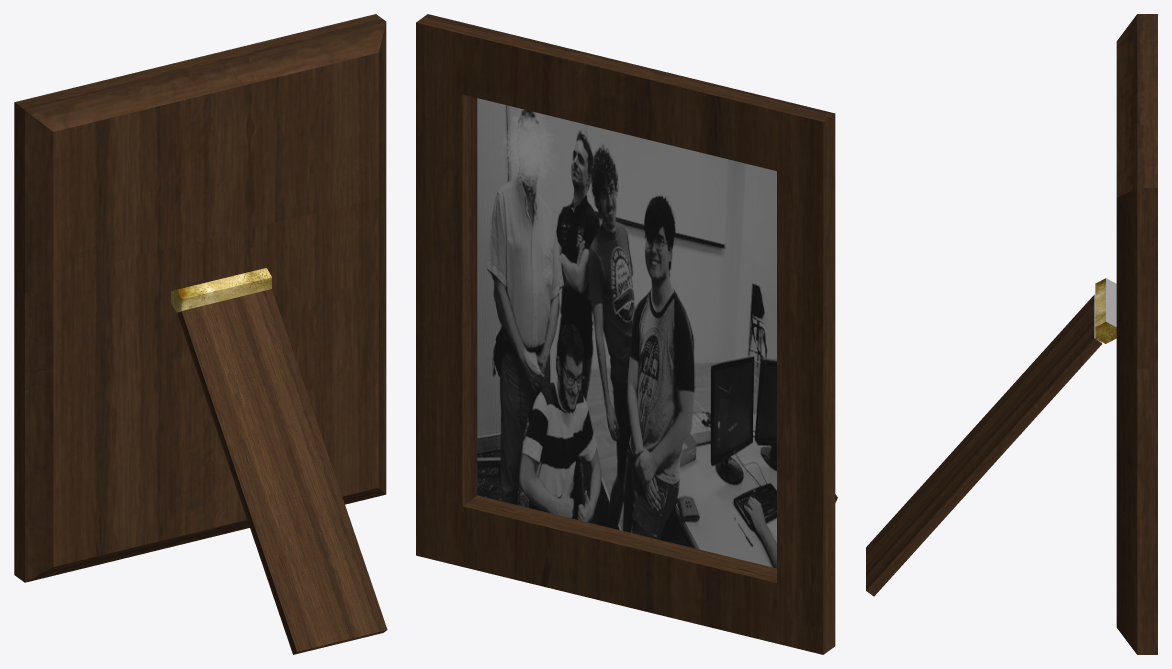
The model's file is MarcoFotos.fbx.
3 renders of one model, left to right at view 1: azimuth 30°, elevation 25°; view 2: azimuth 150°, elevation 25°; view 3: azimuth 270°, elevation 25°, orthographic. The views are drawn at different scales.
Parts seen in each view (by area): view 1: MainFrame, ApoyoMarco, Visagra; view 2: MainFrame; view 3: MainFrame, ApoyoMarco, Visagra.
Boxes of the visible parts, x1=… form: MainFrame: x1=14, y1=14, x2=386, y2=582; ApoyoMarco: x1=177, y1=289, x2=387, y2=654; Visagra: x1=171, y1=268, x2=271, y2=312; MainFrame: x1=416, y1=14, x2=835, y2=654; MainFrame: x1=1116, y1=14, x2=1157, y2=654; ApoyoMarco: x1=866, y1=294, x2=1102, y2=596; Visagra: x1=1095, y1=278, x2=1116, y2=343.
Bounding box in the file's own units: 40 × 50.8 × 28.32.
Materials: 5 (4 with a texture image).
